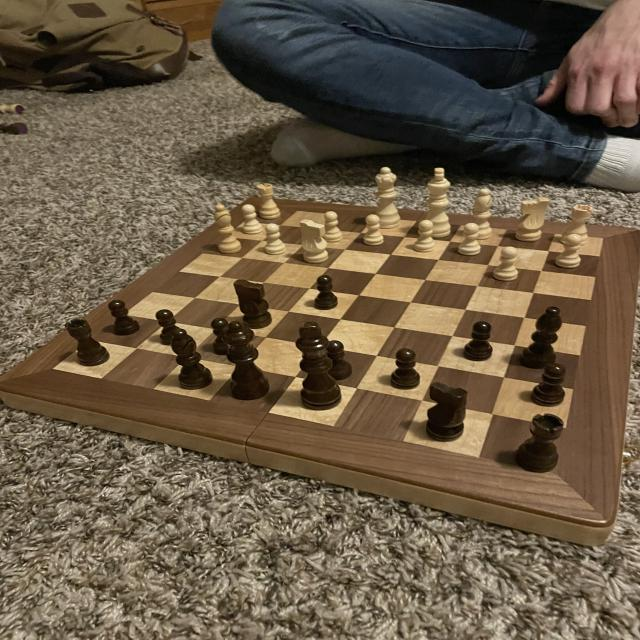bishop: (167, 324, 219, 395), (516, 303, 567, 373)
black-bishop: (290, 322, 350, 417)
black-king: (420, 379, 472, 446), (230, 277, 276, 330)
black-knight: (526, 361, 573, 410), (456, 320, 499, 366), (103, 296, 143, 340), (152, 306, 192, 348), (387, 346, 422, 392), (321, 337, 354, 381), (205, 314, 235, 356), (312, 272, 341, 313)
black-pawn: (220, 320, 274, 404)
black-queen: (510, 409, 567, 476), (62, 315, 114, 369)
black-rook: (211, 200, 245, 258), (468, 185, 496, 245)
white-bishop: (417, 163, 455, 241)
white-king: (510, 194, 553, 243), (297, 217, 335, 267)
white-knight: (489, 241, 522, 284), (552, 232, 587, 271), (408, 216, 439, 256), (260, 219, 290, 256), (454, 221, 484, 258), (320, 207, 346, 244), (239, 202, 264, 238), (364, 212, 387, 247)
white-pawn: (367, 163, 405, 231)
white-queen: (559, 198, 596, 248), (252, 177, 285, 224)
